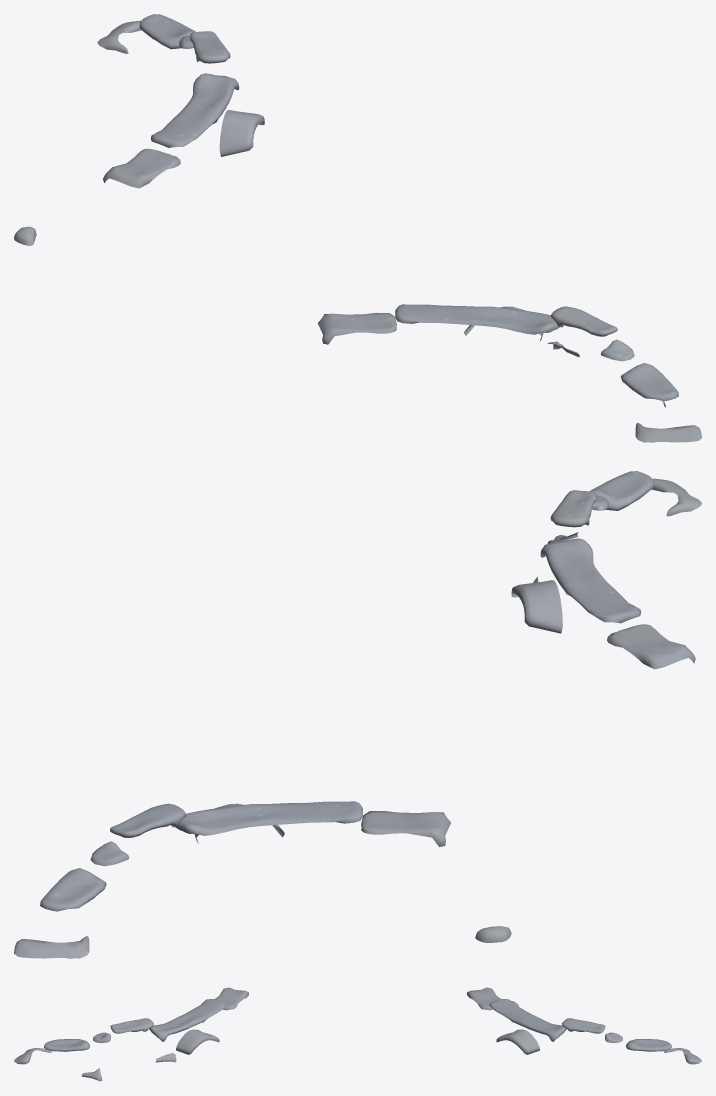
The model's file is pref_sm_beach_winter_snowwall01_lv3.fbx.
3 views of the same model, one above another, from view 1: azimuth 30°, elevation 25°; view 2: azimuth 150°, elevation 25°; view 3: azimuth 270°, elevation 25° (orthographic). The views are drawn at different scales.
Parts seen in each view (by area): view 1: pref_sm_beach_winter_snowwall01_lv3; view 2: pref_sm_beach_winter_snowwall01_lv3; view 3: pref_sm_beach_winter_snowwall01_lv3.
Part boxes in pixels (x1=…): pref_sm_beach_winter_snowwall01_lv3: x1=14, y1=14, x2=701, y2=442; pref_sm_beach_winter_snowwall01_lv3: x1=14, y1=471, x2=701, y2=958; pref_sm_beach_winter_snowwall01_lv3: x1=14, y1=987, x2=701, y2=1081.
Bounding box in the file's own units: 8.09 × 2.31 × 26.15.
